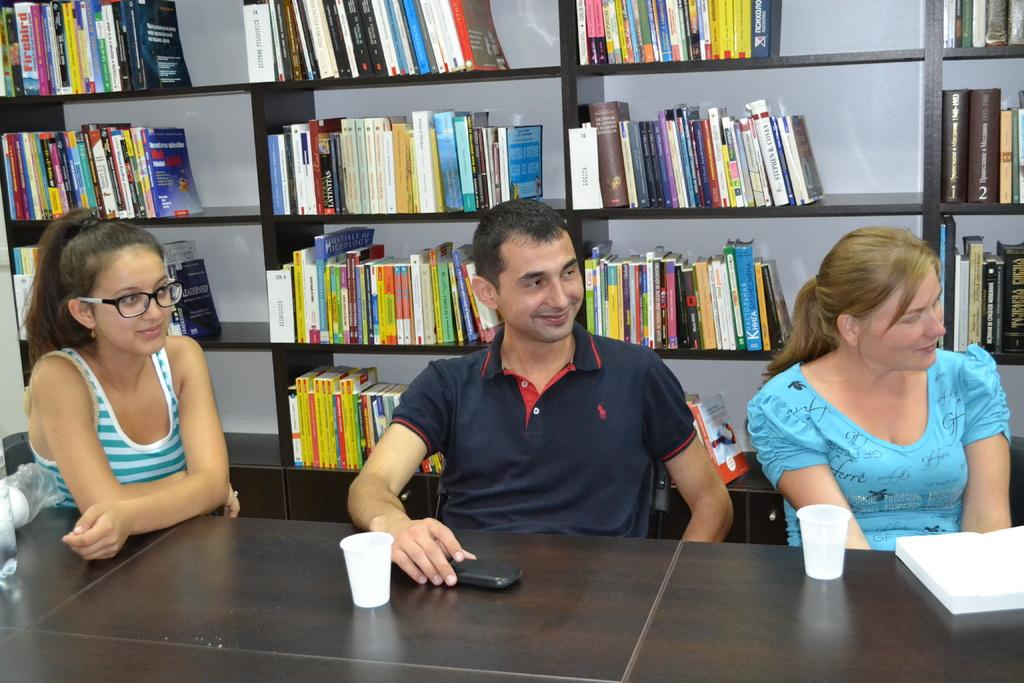Book: (0, 22, 223, 233), (566, 90, 829, 210), (8, 238, 229, 378), (268, 217, 508, 341), (586, 240, 795, 357), (244, 0, 515, 86), (0, 0, 190, 97), (290, 358, 446, 468), (891, 521, 1023, 618), (938, 220, 1023, 362), (579, 0, 780, 57), (939, 89, 1023, 206), (684, 392, 755, 488), (942, 0, 1023, 52)
